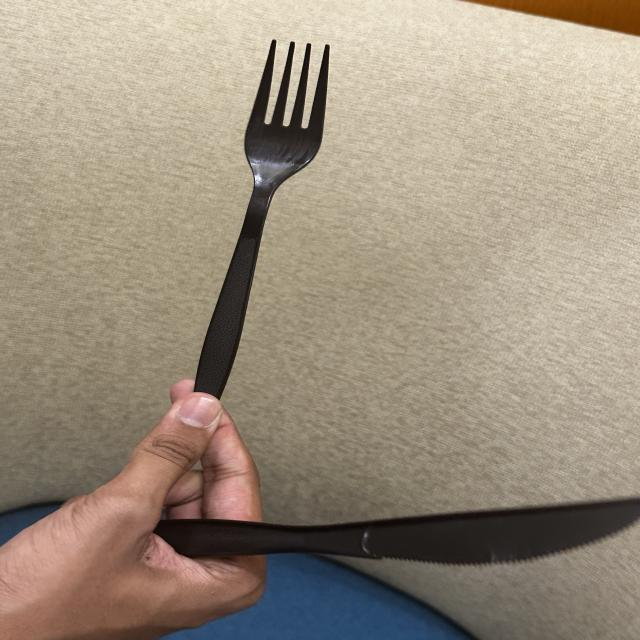fork: (152, 16, 360, 435)
knife: (97, 461, 640, 584)
